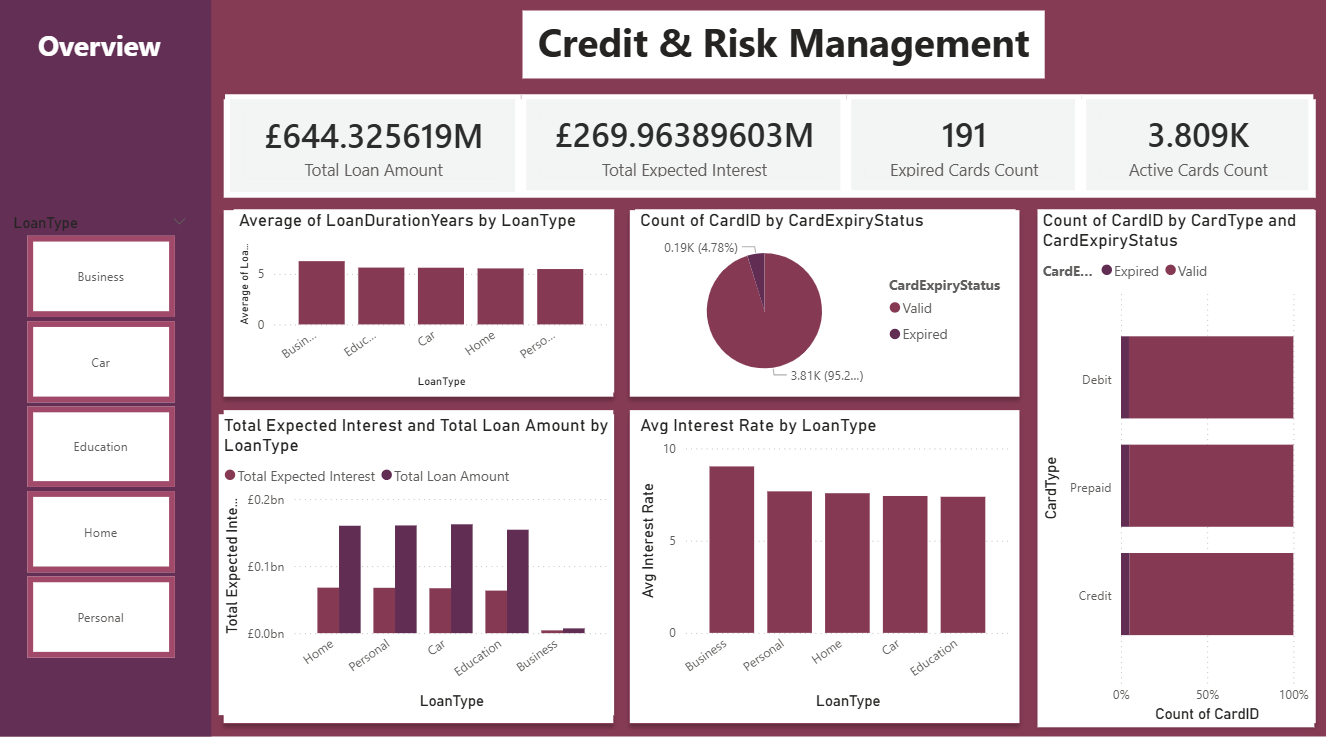

What the dashboard file says about the page in this screenshot:
{"tool":"powerbi","page":{"name":"Credit & Risk Management","canvas":[1280,720],"ordinal":1},"visuals":[{"type":"cardVisual","fields":{"Data":["_Measures.Total Loan Amount"]},"box":[217.6,97.7,285.7,99.2],"z":0},{"type":"cardVisual","fields":{"Data":["_Measures.Active Cards Count"]},"box":[1043.6,97.7,224.4,98.9],"z":1000},{"type":"cardVisual","fields":{"Data":["_Measures.Expired Cards Count"]},"box":[816.8,97.7,226.8,98.9],"z":2000},{"type":"cardVisual","fields":{"Data":["_Measures.Total Expected Interest"]},"box":[503.1,97.7,313.7,98.9],"z":3000},{"type":"clusteredColumnChart","fields":{"Category":["Loans.LoanType"],"Y":["_Measures.Total Expected Interest","_Measures.Total Loan Amount"]},"box":[211.4,407.1,381.4,290],"z":4000},{"type":"pieChart","fields":{"Category":["Cards.CardExpiryStatus"],"Y":["CountNonNull(Cards.CardID)"]},"box":[612.9,208.6,367.1,177.1],"z":5000},{"type":"hundredPercentStackedBarChart","fields":{"Category":["Cards.CardType"],"Y":["CountNonNull(Cards.CardID)"],"Series":["Cards.CardExpiryStatus"]},"box":[1001.4,208.6,267.1,500],"z":6000},{"type":"clusteredColumnChart","fields":{"Category":["Loans.LoanType"],"Y":["_Measures.Avg Interest Rate"]},"box":[612.9,407.1,367.1,290],"z":7000},{"type":"clusteredColumnChart","fields":{"Category":["Loans.LoanType"],"Y":["Avg(Loans.LoanDurationYears)"]},"box":[225.7,208.6,367.1,177.1],"z":8000},{"type":"textbox","box":[504.3,17.1,504.3,65.7],"z":9000},{"type":"slicer","fields":{"Values":["Loans.LoanType"]},"box":[0,208.7,192.4,439.6],"z":9001},{"type":"actionButton","box":[14.8,17.8,162.8,62.2],"z":9002}]}

Visuals, with their boxes in screenshot pixels (x1, y1, x2, y2), scaled from the page's 1280x720 canvas onto the 1326x737 screenshot:
cardVisual - _Measures.Total Loan Amount: (225,100,521,202)
cardVisual - _Measures.Active Cards Count: (1081,100,1314,201)
cardVisual - _Measures.Expired Cards Count: (846,100,1081,201)
cardVisual - _Measures.Total Expected Interest: (521,100,846,201)
clusteredColumnChart - Loans.LoanType x _Measures.Total Expected Interest: (219,417,614,714)
pieChart - Cards.CardExpiryStatus x CountNonNull(Cards.CardID): (635,214,1015,395)
hundredPercentStackedBarChart - Cards.CardType x CountNonNull(Cards.CardID): (1037,214,1314,725)
clusteredColumnChart - Loans.LoanType x _Measures.Avg Interest Rate: (635,417,1015,714)
clusteredColumnChart - Loans.LoanType x Avg(Loans.LoanDurationYears): (234,214,614,395)
textbox: (522,18,1045,85)
slicer - Loans.LoanType: (0,214,199,664)
actionButton: (15,18,184,82)
